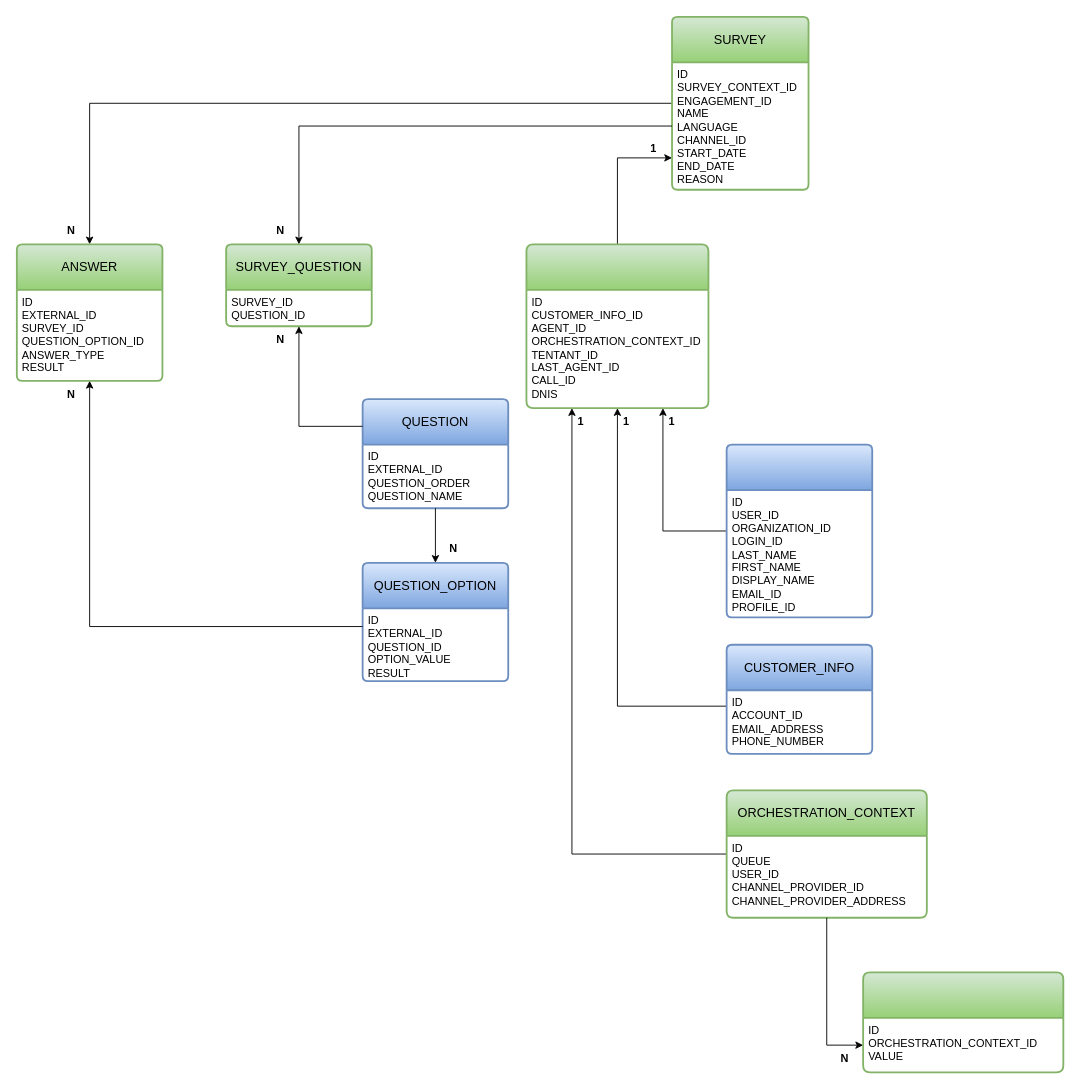
Some shapes in this 1079 by 1088 pixel diagram are drawn without their labels. The shapes that lost their labels are listed below. From the top down, each one's box as (x1, y1, x2, y2) in pixels, then its label:
(525, 243, 709, 409): SURVEY_CONTEXT
(725, 443, 873, 618): AGENT
(862, 971, 1064, 1073): ATTRIBUTE_LIST
